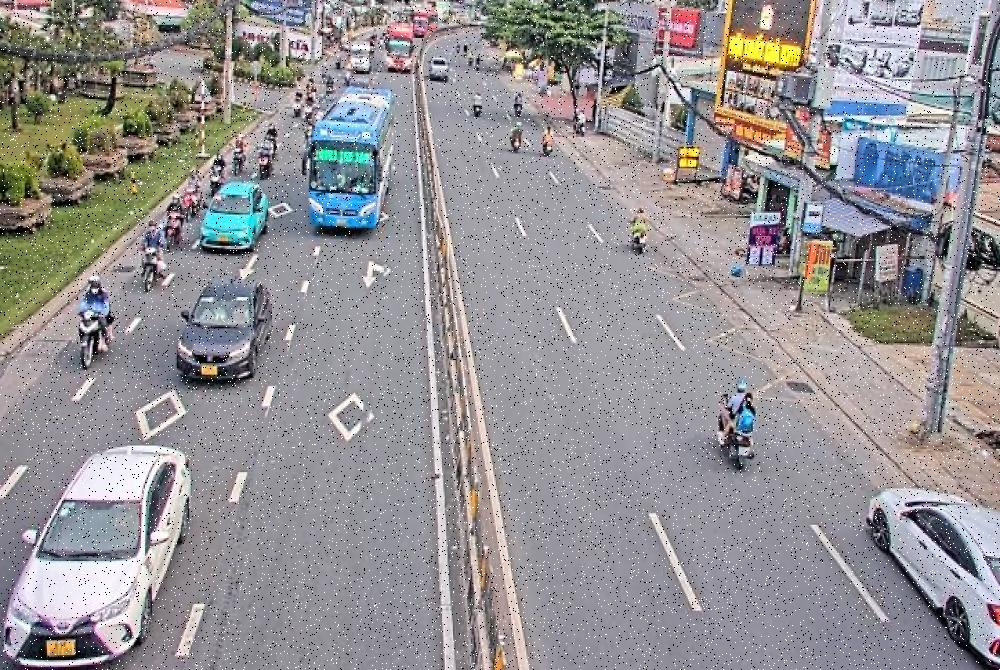bus: (306, 88, 398, 232), (383, 32, 414, 73)
car: (0, 446, 192, 665), (863, 487, 1000, 670), (174, 278, 272, 384), (198, 182, 270, 252), (429, 50, 453, 87), (346, 39, 370, 71)
motorbike: (68, 309, 109, 372), (718, 430, 754, 473), (543, 137, 556, 159), (472, 104, 484, 120)
